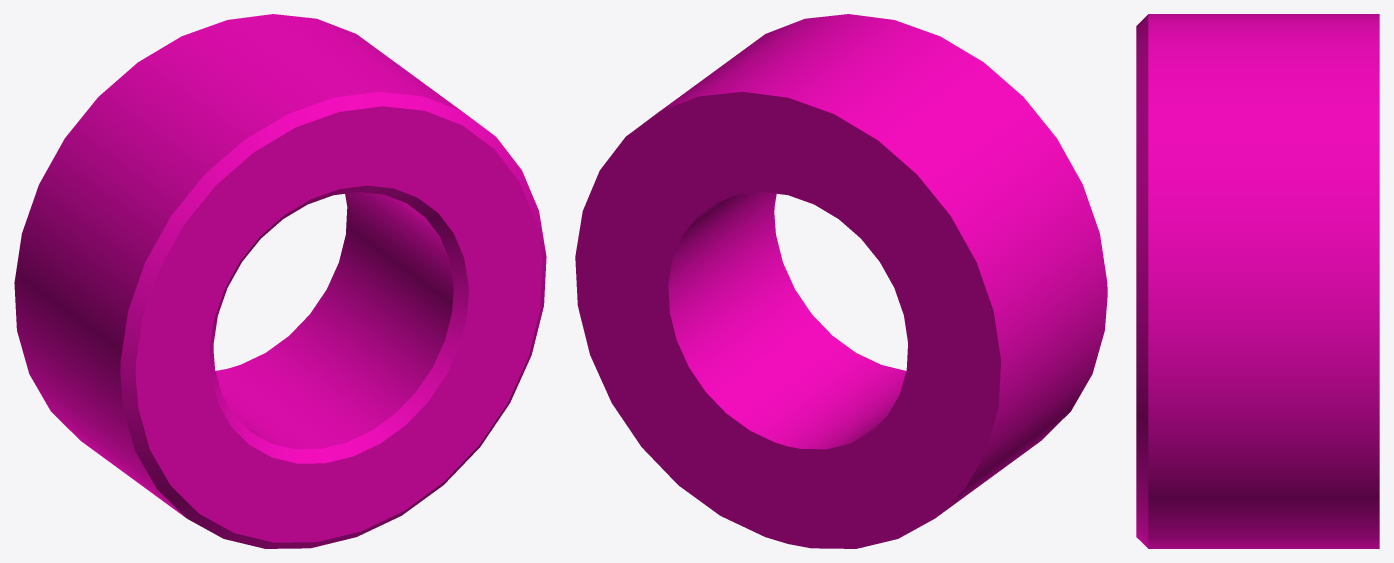
Rendered from dot.glb.
3 views of the same model, side by side, from view 1: azimuth 30°, elevation 25°; view 2: azimuth 150°, elevation 25°; view 3: azimuth 270°, elevation 25° (orthographic). The views are drawn at different scales.
Parts seen in each view (by area): view 1: mesh24479, mesh24481, mesh24483, mesh24480, mesh24484; view 2: mesh24482, mesh24481, mesh24483; view 3: mesh24481, mesh24480.
Boxes of the visible parts, x1,y1,x2,y2 form: mesh24479: (135, 106, 542, 542); mesh24481: (14, 14, 461, 517); mesh24483: (215, 192, 453, 449); mesh24480: (120, 91, 546, 548); mesh24484: (209, 185, 468, 463); mesh24482: (575, 91, 1000, 548); mesh24481: (660, 14, 1107, 518); mesh24483: (668, 192, 906, 449); mesh24481: (1148, 14, 1379, 548); mesh24480: (1136, 14, 1148, 548).
Bounding box in the file's own units: 0.0066 × 0.00661 × 0.003.
